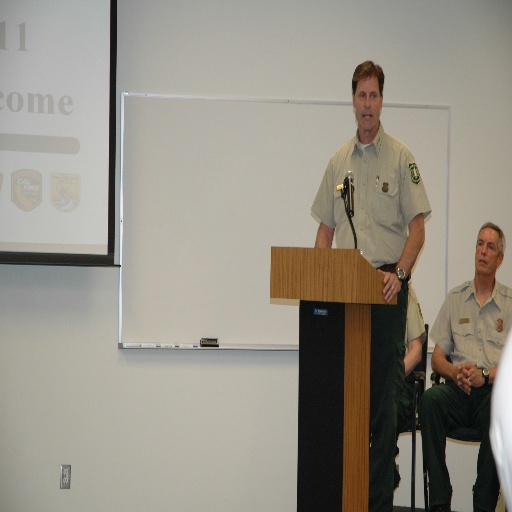hand: (381, 252, 416, 303), (455, 362, 485, 389), (453, 360, 469, 398)
